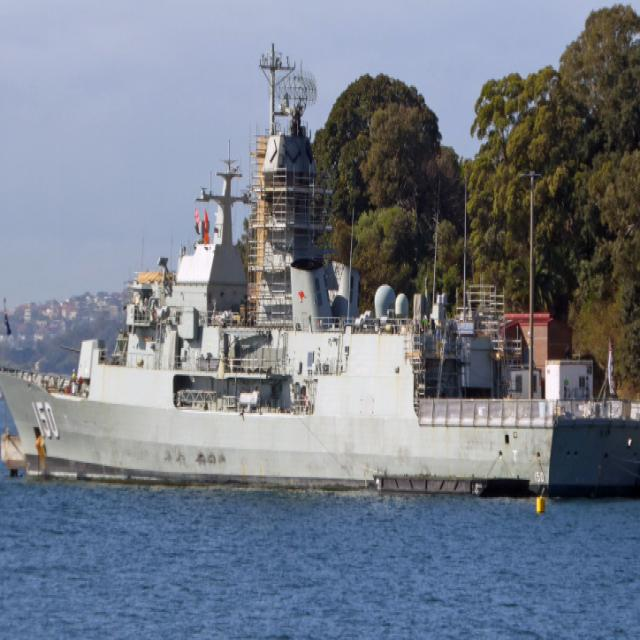Fragata: (1, 35, 640, 489)
